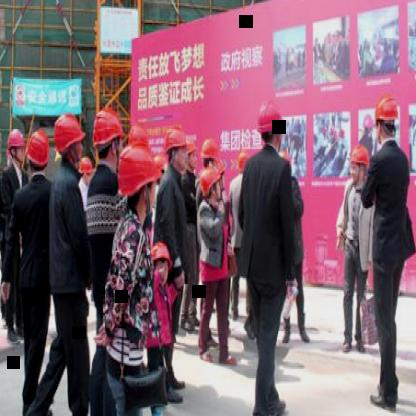helmet: (122, 143, 160, 223), (254, 98, 286, 157), (52, 117, 84, 167), (93, 112, 122, 166), (160, 126, 192, 174), (148, 236, 171, 296), (374, 94, 400, 147), (26, 129, 52, 176), (350, 141, 374, 185), (200, 167, 223, 208), (4, 128, 26, 168), (201, 135, 219, 173)
